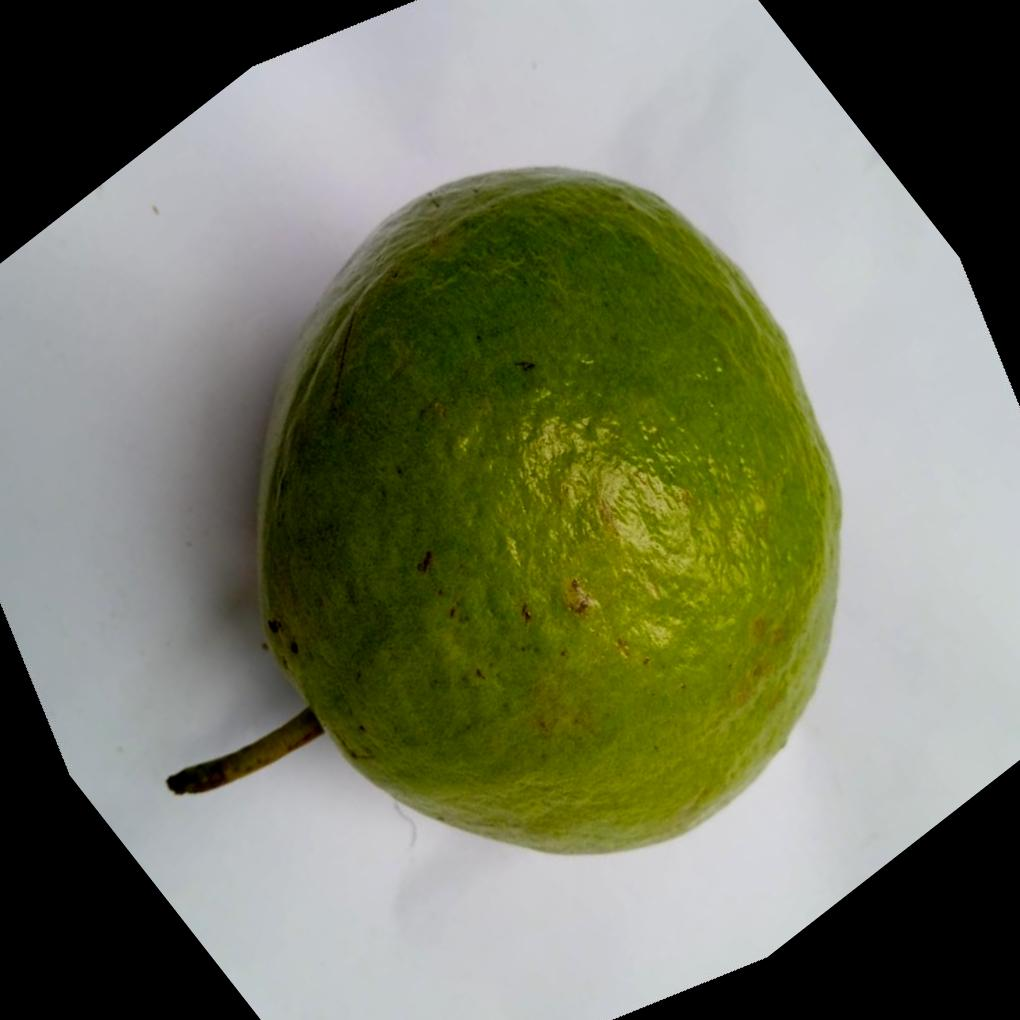FreshGuava: (169, 160, 846, 856)
